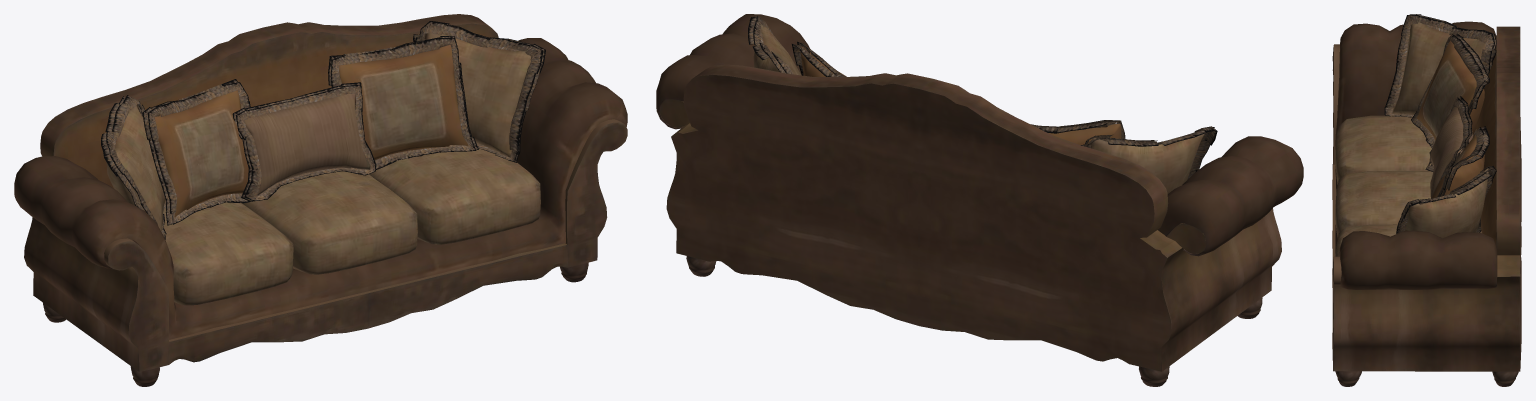
File: sofa.glb
3 renders of one model, left to right at view 1: azimuth 30°, elevation 25°; view 2: azimuth 150°, elevation 25°; view 3: azimuth 270°, elevation 25°, orthographic. The views are drawn at different scales.
Visible parts, largest first — view 1: sofa_03; view 2: sofa_03; view 3: sofa_03.
Boxes of the visible parts, x1,y1,x2,y2 form: sofa_03: (14,14,627,386); sofa_03: (656,14,1303,386); sofa_03: (1332,14,1521,386).
Bounding box in the file's own units: 2.73 × 1.12 × 0.925.
Materials: 2 (2 with a texture image).
